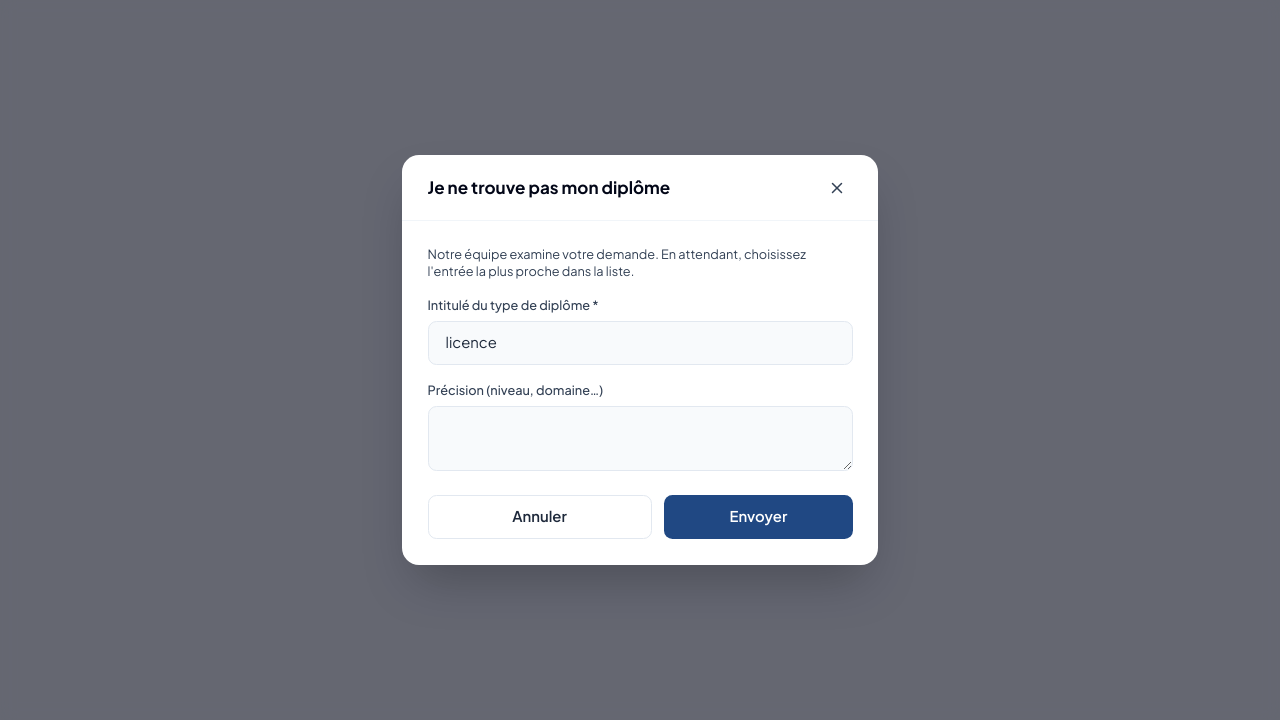
Test: 💡 <ProposerEntreeModal /> — « Je ne trouve pas mon diplôme / ma spécialité » › 🔴 Refus du serveur (entrée déjà présente) : message affiché, fenêtre conservée
The width and height of the screenshot is (1280, 720).
Click the button "Envoyer" at [758, 517], box [664,495,852,539]
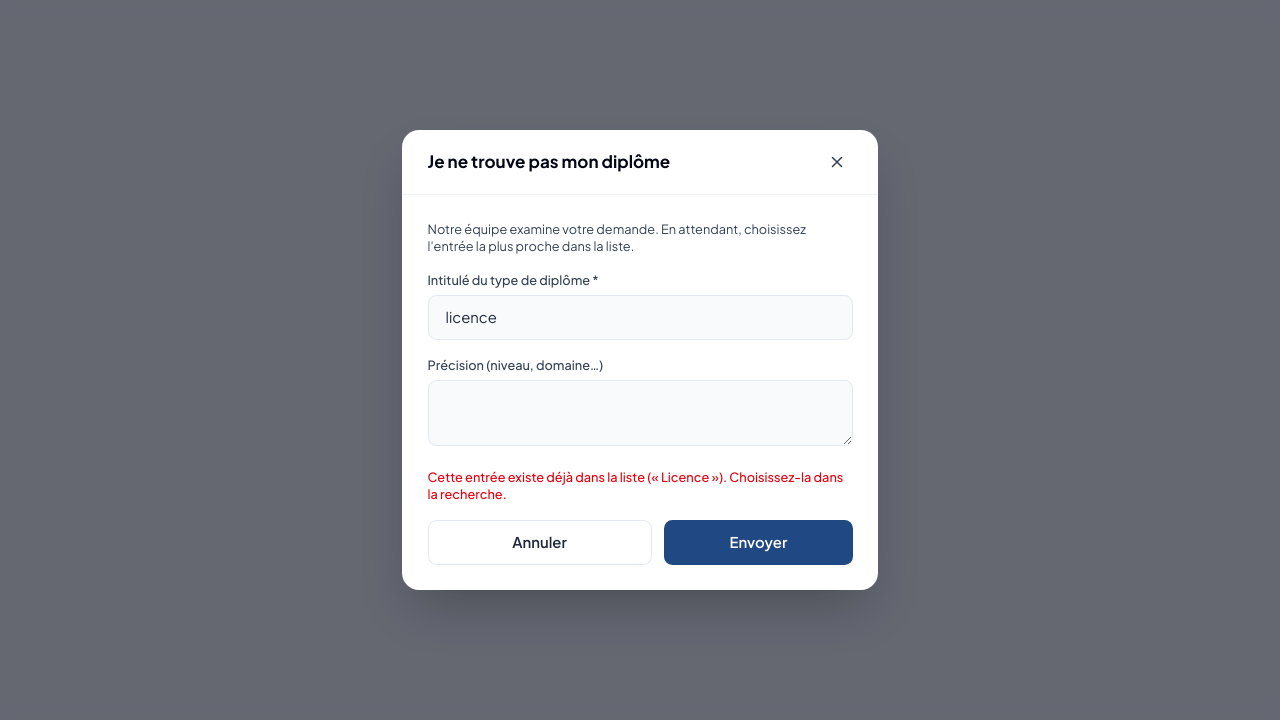
Now the message shows "Cette entrée existe déjà dans la liste", box [428,469,843,502]
